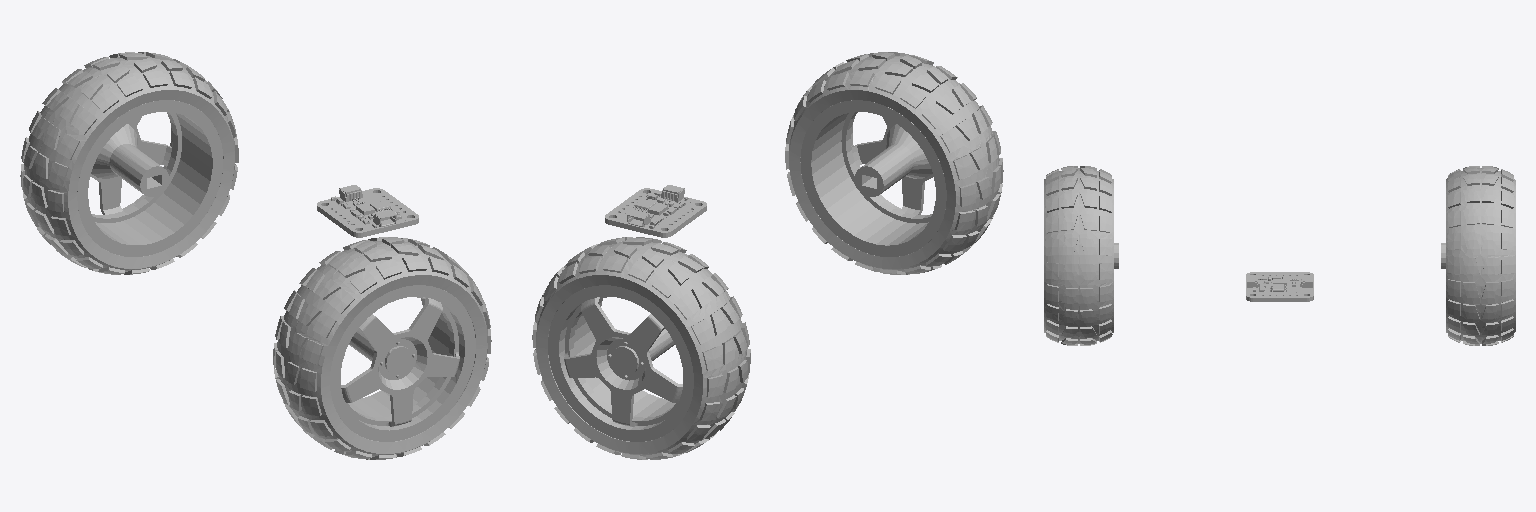
robot.urdf — robot_patrol_export_reference:
<?xml version="1.0" encoding="utf-8"?>
<!-- This URDF was automatically created by SolidWorks to URDF Exporter! Originally created by Stephen Brawner (brawner@gmail.com) 
     Commit Version: 1.6.0-4-g7f85cfe  Build Version: 1.6.7995.38578
     For more information, please see http://wiki.ros.org/sw_urdf_exporter -->
<robot
  name="robot_patrol_export_reference">
  <link
    name="base">
    <inertial>
      <origin
        xyz="0.00520033514305912 -0.000128707959601523 0.0624303721662037"
        rpy="0 0 0" />
      <mass
        value="0.824676378085937" />
      <inertia
        ixx="0.0007519680360793"
        ixy="-3.38608634004892E-07"
        ixz="1.32890705055881E-07"
        iyy="0.000720788273138498"
        iyz="1.8242954710786E-07"
        izz="0.00137728978991363" />
    </inertial>
    <visual>
      <origin
        xyz="0 0 0"
        rpy="0 0 0" />
      <geometry>
        <mesh
          filename="package://robot/meshes/base.STL" />
      </geometry>
      <material
        name="">
        <color
          rgba="0.792156862745098 0.819607843137255 0.933333333333333 1" />
      </material>
    </visual>
    <collision>
      <origin
        xyz="0 0 0"
        rpy="0 0 0" />
      <geometry>
        <mesh
          filename="package://robot/meshes/base.STL" />
      </geometry>
    </collision>
  </link>
  <link
    name="r_wheel">
    <inertial>
      <origin
        xyz="-4.13335166937062E-07 0.0096550753000656 1.07115778420763E-07"
        rpy="0 0 0" />
      <mass
        value="0.0246778552519268" />
      <inertia
        ixx="1.01416494401202E-05"
        ixy="-5.34978425799937E-11"
        ixz="5.24365453630904E-10"
        iyy="1.69692503612592E-05"
        iyz="3.40986028223864E-11"
        izz="1.01419373844507E-05" />
    </inertial>
    <visual>
      <origin
        xyz="0 0 0"
        rpy="0 0 0" />
      <geometry>
        <mesh
          filename="package://robot/meshes/r_wheel.STL" />
      </geometry>
      <material
        name="">
        <color
          rgba="0.752941176470588 0.752941176470588 0.752941176470588 1" />
      </material>
    </visual>
    <collision>
      <origin
        xyz="0 0 0"
        rpy="0 0 0" />
      <geometry>
        <mesh
          filename="package://robot/meshes/r_wheel.STL" />
      </geometry>
    </collision>
  </link>
  <joint
    name="right"
    type="continuous">
    <origin
      xyz="-0.0510000000000004 -0.0856000000000001 0.0320000000000001"
      rpy="0 0 0" />
    <parent
      link="base" />
    <child
      link="r_wheel" />
    <axis
      xyz="0 -1 0" />
  </joint>
  <link
    name="l_wheel">
    <inertial>
      <origin
        xyz="4.12473964029464E-07 -0.00965507530006561 1.10385588746043E-07"
        rpy="0 0 0" />
      <mass
        value="0.0246778552519269" />
      <inertia
        ixx="1.01416577627347E-05"
        ixy="-5.32261409798379E-11"
        ixz="-5.26579825605574E-10"
        iyy="1.69692503612592E-05"
        iyz="-3.45211788916666E-11"
        izz="1.01419290618362E-05" />
    </inertial>
    <visual>
      <origin
        xyz="0 0 0"
        rpy="0 0 0" />
      <geometry>
        <mesh
          filename="package://robot/meshes/l_wheel.STL" />
      </geometry>
      <material
        name="">
        <color
          rgba="0.752941176470588 0.752941176470588 0.752941176470588 1" />
      </material>
    </visual>
    <collision>
      <origin
        xyz="0 0 0"
        rpy="0 0 0" />
      <geometry>
        <mesh
          filename="package://robot/meshes/l_wheel.STL" />
      </geometry>
    </collision>
  </link>
  <joint
    name="left"
    type="continuous">
    <origin
      xyz="-0.0509999999999998 0.0855999999999999 0.0320000000000001"
      rpy="0 0 0" />
    <parent
      link="base" />
    <child
      link="l_wheel" />
    <axis
      xyz="0 1 0" />
  </joint>
  <link
    name="imu">
    <inertial>
      <origin
        xyz="-0.00406363043192991 0.000376659338362913 -0.0016867562159639"
        rpy="0 0 0" />
      <mass
        value="0.00107502612099414" />
      <inertia
        ixx="4.66267673516479E-08"
        ixy="-2.60381396101509E-12"
        ixz="-1.70011863959292E-14"
        iyy="3.73533571996132E-08"
        iyz="-1.77225547358327E-14"
        izz="8.34197004616928E-08" />
    </inertial>
    <visual>
      <origin
        xyz="0 0 0"
        rpy="0 0 0" />
      <geometry>
        <mesh
          filename="package://robot/meshes/imu.STL" />
      </geometry>
      <material
        name="">
        <color
          rgba="0.752941176470588 0.752941176470588 0.752941176470588 1" />
      </material>
    </visual>
    <collision>
      <origin
        xyz="0 0 0"
        rpy="0 0 0" />
      <geometry>
        <mesh
          filename="package://robot/meshes/imu.STL" />
      </geometry>
    </collision>
  </link>
  <joint
    name="imu_"
    type="fixed">
    <origin
      xyz="-0.00826102603417041 -0.000442406185289176 0.0390999999999995"
      rpy="0 0 0" />
    <parent
      link="base" />
    <child
      link="imu" />
    <axis
      xyz="0 0 0" />
  </joint>
</robot>

--- Facts derived from the render (not from the file) ---
The picture shows the robot from 3 angles, left to right: view 1: azimuth 30°, elevation 25°; view 2: azimuth 150°, elevation 25°; view 3: azimuth 270°, elevation 25°; orthographic projection.
Robot: robot_patrol_export_reference — 4 links, 3 joints (2 continuous, 1 fixed); root link base; default pose: every joint at zero.
Visible links, largest first — view 1: l_wheel, r_wheel, imu; view 2: r_wheel, l_wheel, imu; view 3: r_wheel, l_wheel, imu.
Link boxes in pixels (x1,y1,x2,y2): l_wheel: [20, 52, 238, 274]; r_wheel: [273, 237, 491, 459]; imu: [317, 185, 418, 237]; r_wheel: [785, 52, 1003, 274]; l_wheel: [532, 237, 750, 459]; imu: [605, 185, 706, 237]; r_wheel: [1044, 166, 1118, 345]; l_wheel: [1441, 166, 1515, 345]; imu: [1246, 272, 1313, 301].
Bounding box of the posed robot: 0.0841 × 0.177 × 0.0679 m (x, y, z).
Meshes: 4 distinct files referenced, 3 mesh visuals loaded (3 binary STL); not drawn: 1 (reference not matched to a file when rendering).
